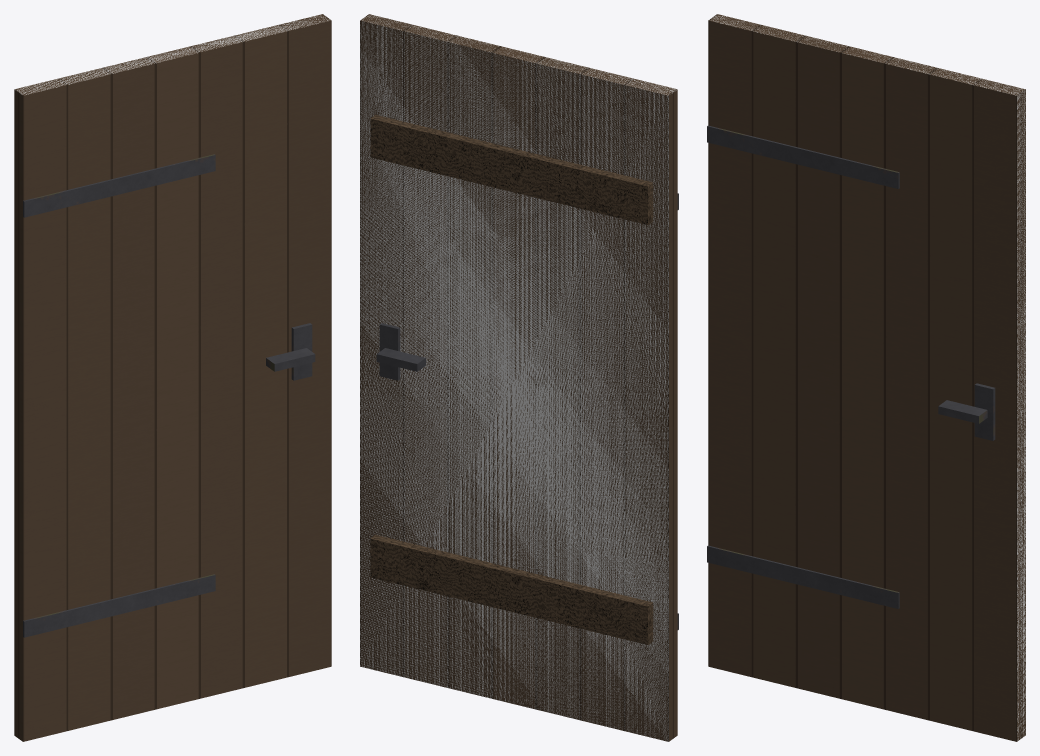
Rendered from door.glb.
The picture shows the model from 3 angles, left to right: view 1: azimuth 30°, elevation 25°; view 2: azimuth 150°, elevation 25°; view 3: azimuth 330°, elevation 25°; orthographic projection.
Parts seen in each view (by area): view 1: door, COL_HULL_door; view 2: door, COL_HULL_door; view 3: door, COL_HULL_door.
Part boxes in pixels (box(x1,y1,x2,y2)): door: box(14, 14, 331, 741); COL_HULL_door: box(15, 15, 329, 94); door: box(360, 14, 678, 741); COL_HULL_door: box(360, 15, 676, 741); door: box(707, 14, 1025, 741); COL_HULL_door: box(709, 14, 1025, 740).
Bounding box in the file's own units: 1 × 2 × 0.17.
3 materials, 3 textured.
